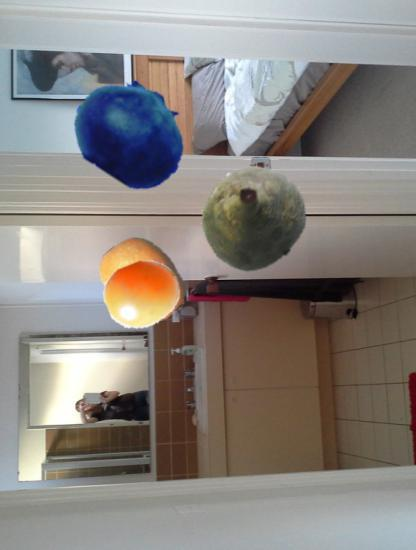Beetroot: (197, 157, 313, 273)
Cherry: (103, 255, 182, 334)
Huckleberry: (73, 74, 191, 192)
Kumquats: (98, 235, 188, 325)
